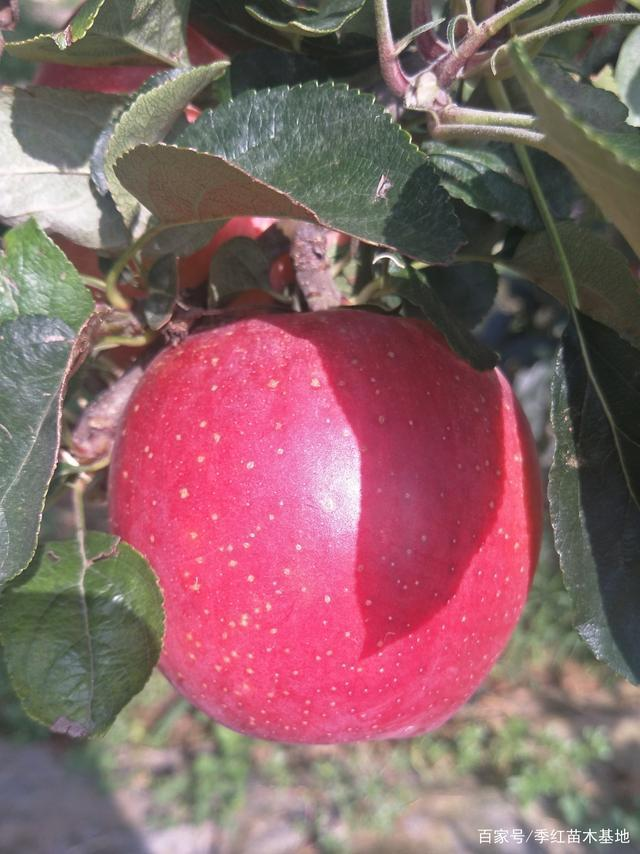apple: (94, 310, 546, 742)
